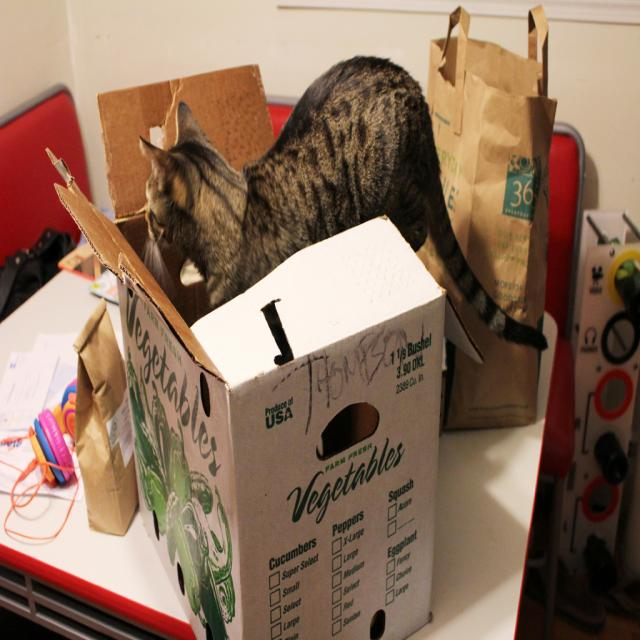Box: (45, 65, 446, 640)
